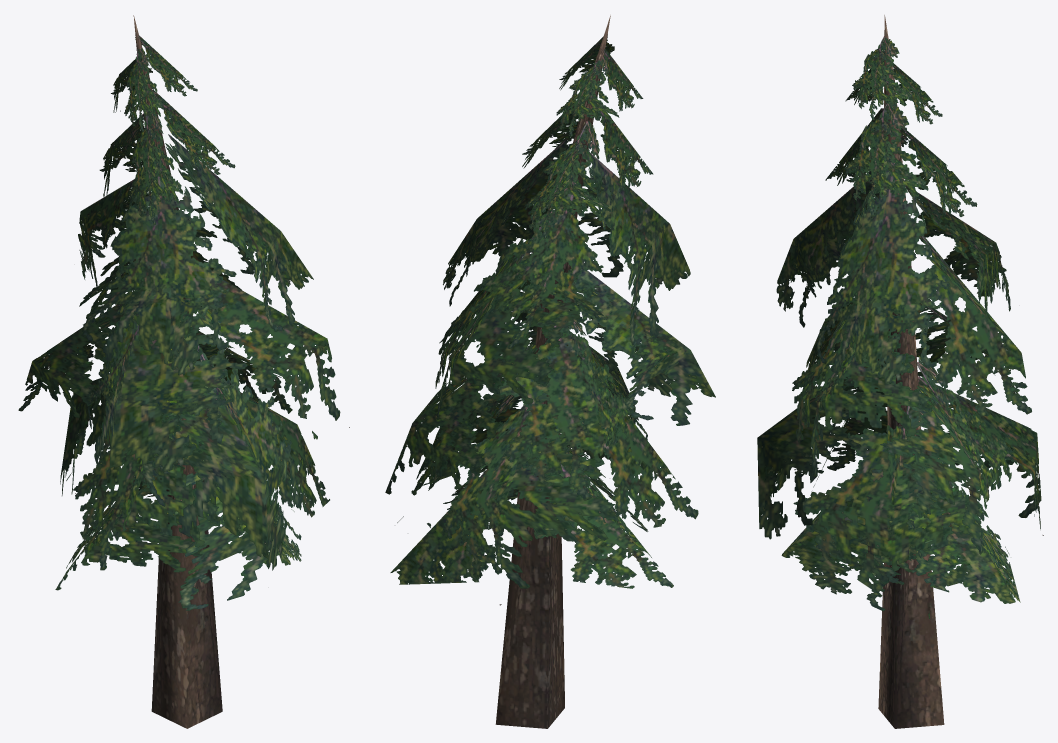
Rendered from collision_town_pine01.fbx.
3 views of the same model, side by side, from view 1: azimuth 30°, elevation 25°; view 2: azimuth 150°, elevation 25°; view 3: azimuth 270°, elevation 25° (orthographic). The views are drawn at different scales.
Visible parts, largest first — view 1: Material_#661; view 2: Material_#661; view 3: Material_#661.
Part boxes in pixels (bbox=[...]): Material_#661: bbox=[18, 15, 349, 728]; Material_#661: bbox=[385, 15, 715, 728]; Material_#661: bbox=[757, 15, 1043, 728].
Size of the model in its own units: 4.18 by 10.51 by 4.06.
